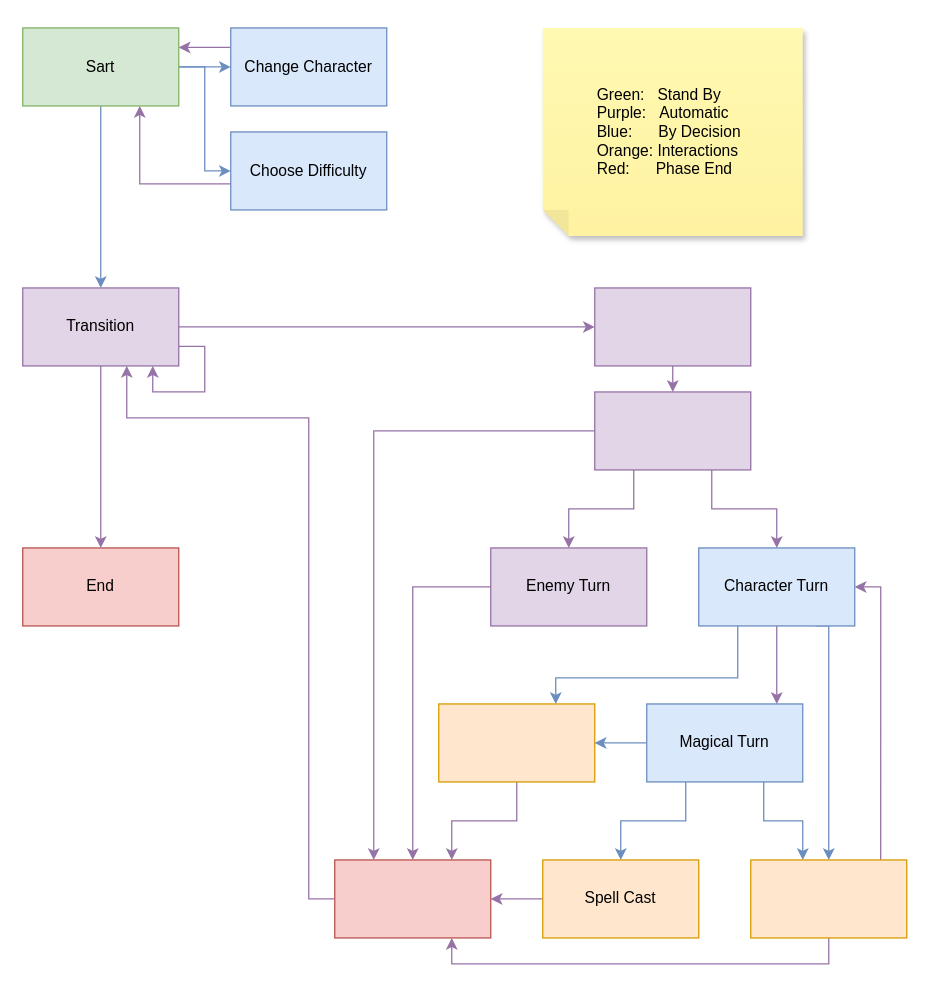
The diagram is 929 pixels wide and 997 high, and some of its shapes have lost their labels. The shapes that lost their labels are listed below. From the top down, each one's centre as x and y in pixels, then its label:
At (672,326): "Turn Phase".
At (672,430): "Apply Effects".
At (516,742): "Normal Attack".
At (412,898): "End Turn".
At (828,898): "Equip".
